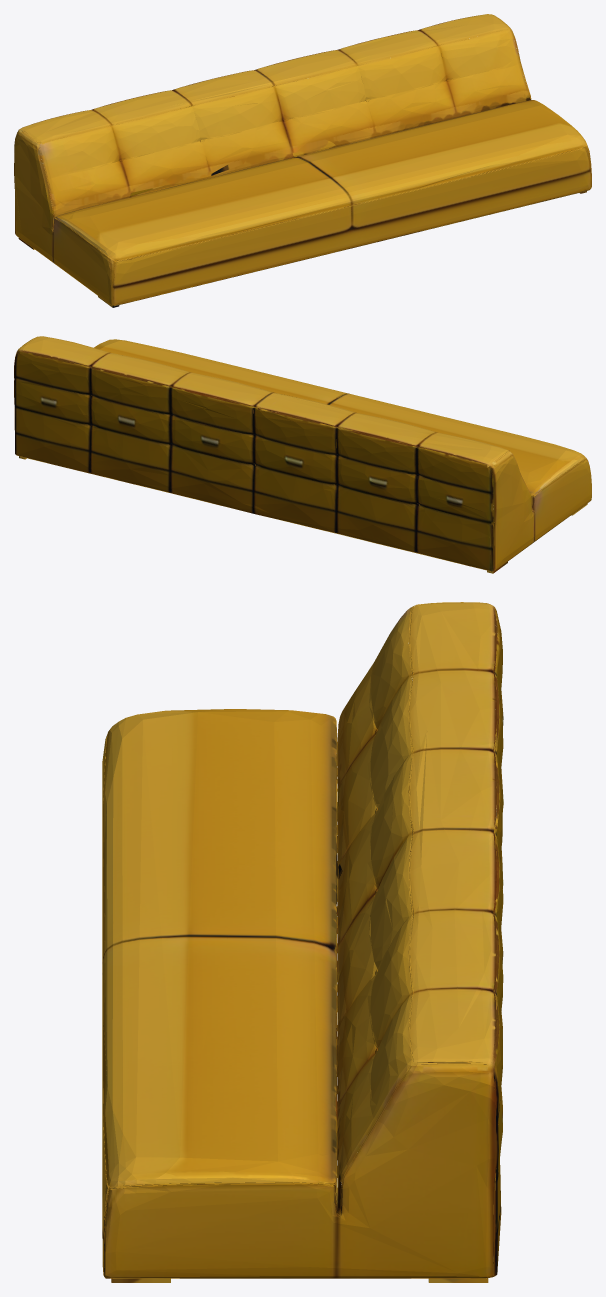
Rendered from edited_mesh.glb.
3 renders of one model, top to bottom at view 1: azimuth 30°, elevation 25°; view 2: azimuth 150°, elevation 25°; view 3: azimuth 270°, elevation 25°, orthographic. The views are drawn at different scales.
Visible parts, largest first — view 1: solid_001_wire; view 2: solid_001_wire; view 3: solid_001_wire.
Part boxes in pixels (x1,y1,x2,y2): solid_001_wire: [14, 14, 591, 307]; solid_001_wire: [14, 336, 591, 573]; solid_001_wire: [102, 602, 503, 1282].
Size of the model in its own units: 2 by 0.4446 by 0.7213.
1 material, 1 textured.
